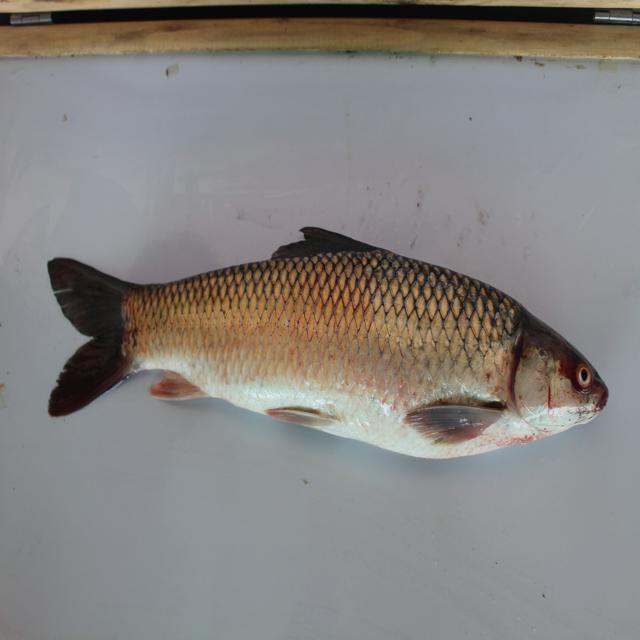Mori: (38, 210, 618, 490)
